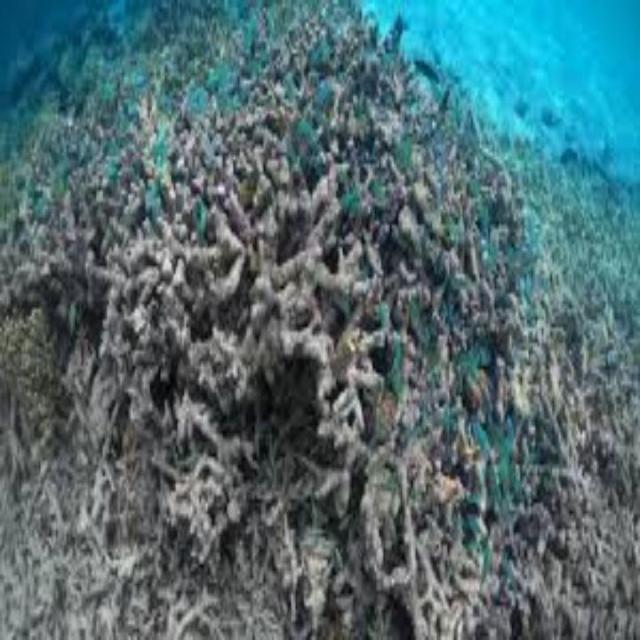Dead Coral: (29, 102, 640, 640), (46, 76, 569, 462)
